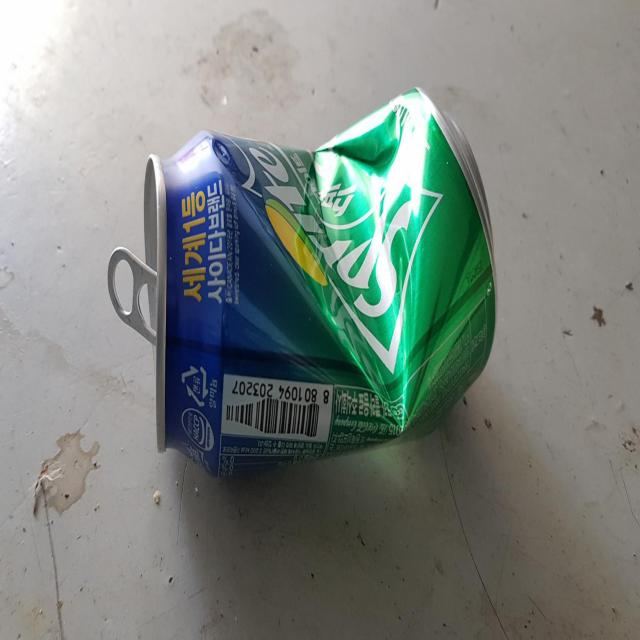can: (107, 88, 497, 476)
